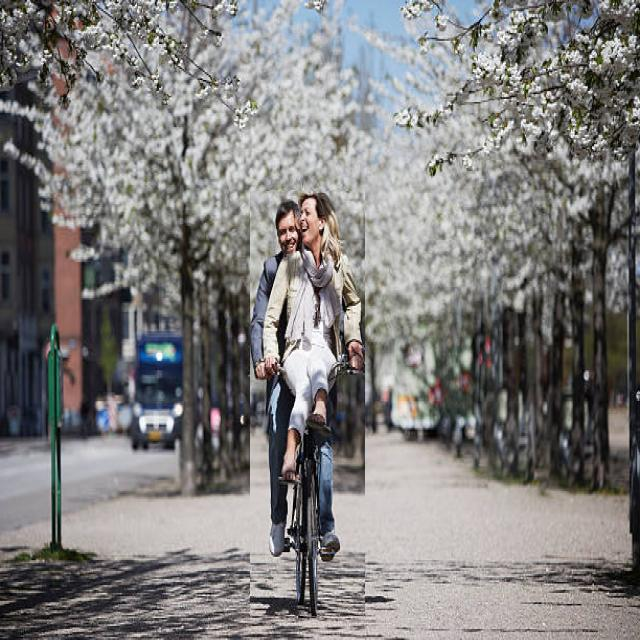bicycle: (250, 191, 365, 616)
